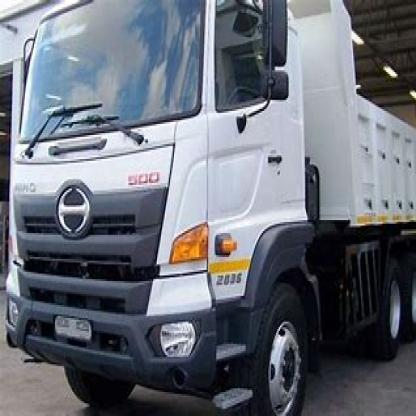dump_truck: (4, 4, 415, 414)
